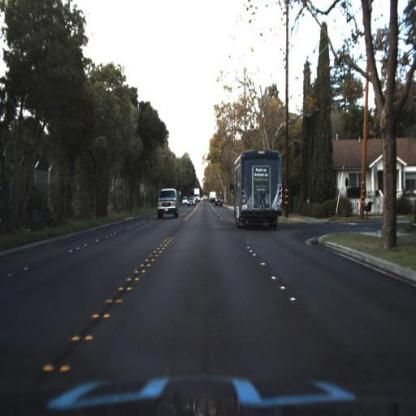car: (154, 182, 181, 224), (158, 187, 184, 219), (212, 191, 228, 212), (186, 195, 197, 210)
truck: (233, 151, 285, 232)
